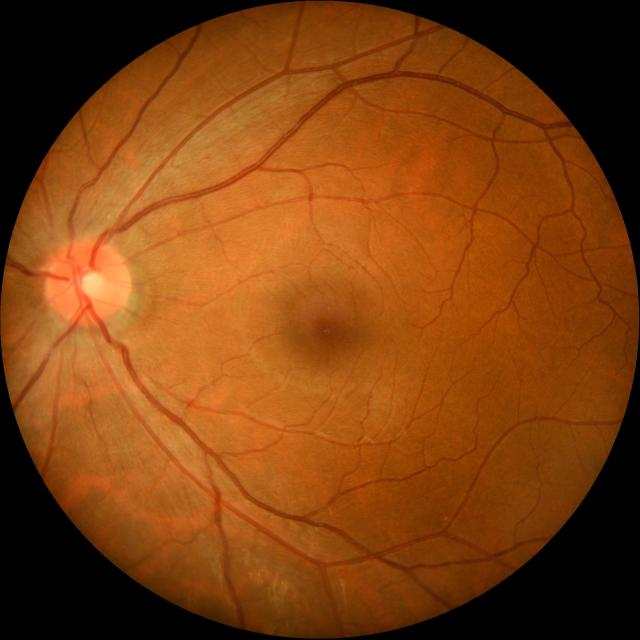OC: (79, 268, 105, 300)
OD: (45, 236, 130, 326)
